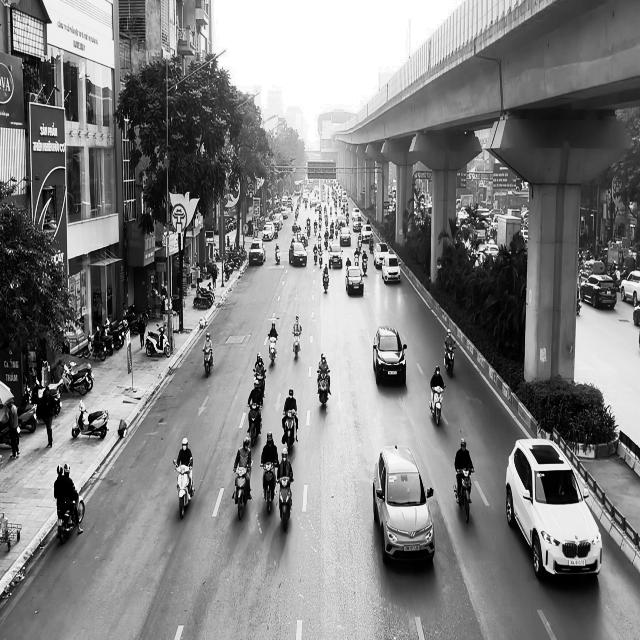car: (505, 437, 602, 580), (372, 444, 435, 565), (372, 324, 407, 385), (620, 269, 640, 306), (345, 266, 364, 296), (381, 254, 401, 282), (248, 239, 266, 265), (289, 242, 307, 266)
motorbike: (56, 488, 85, 544), (71, 399, 109, 439), (173, 458, 195, 519), (232, 461, 252, 520), (454, 467, 474, 523), (260, 461, 278, 514), (277, 475, 293, 532), (145, 323, 171, 357), (247, 402, 262, 447), (429, 384, 445, 426), (282, 409, 296, 454), (317, 368, 330, 406), (444, 342, 456, 377), (253, 368, 266, 399), (266, 333, 278, 365), (202, 347, 214, 377), (292, 328, 301, 358), (322, 272, 328, 292), (275, 250, 280, 264)
